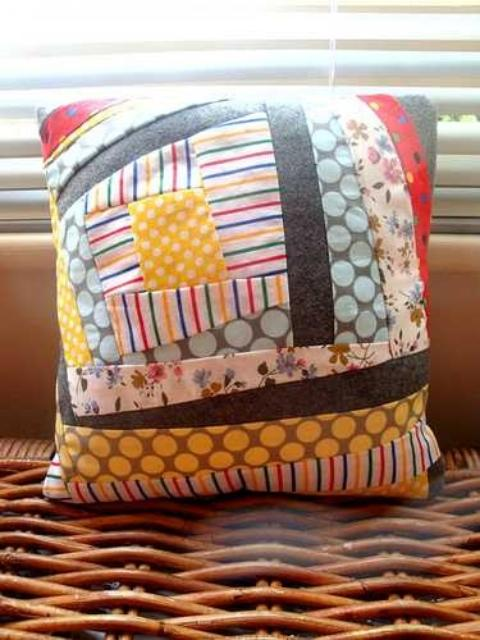pillow: (38, 92, 446, 504)
